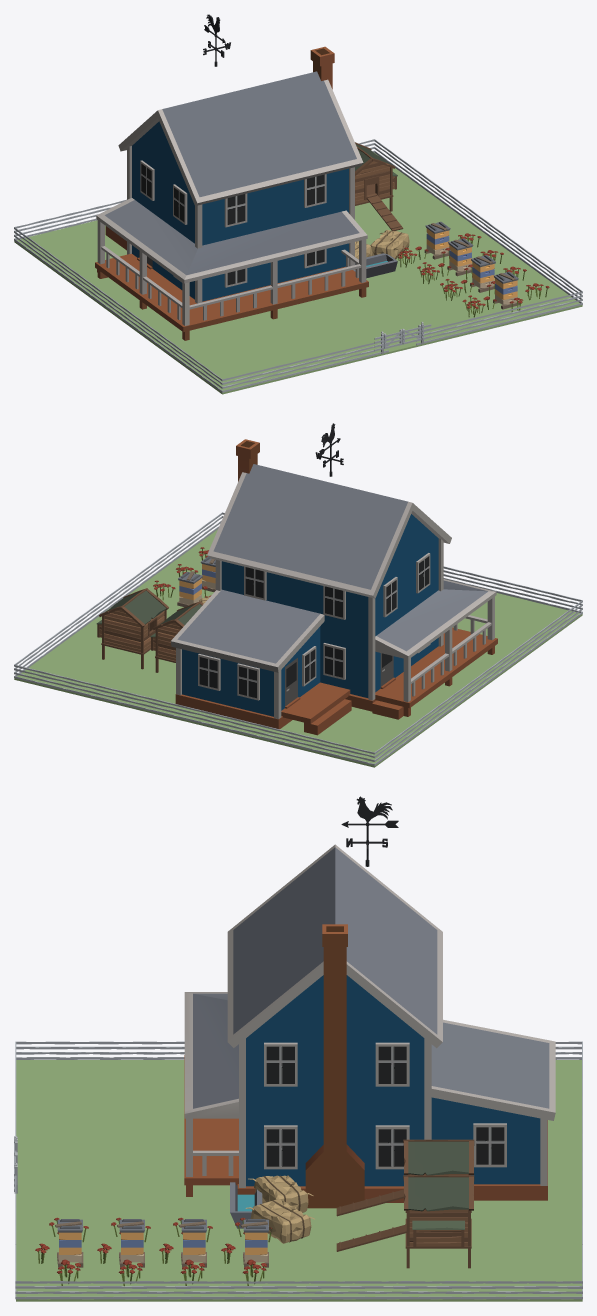
Rendered from ranch.glb.
The picture shows the model from 3 angles, top to bottom: view 1: azimuth 30°, elevation 25°; view 2: azimuth 150°, elevation 25°; view 3: azimuth 270°, elevation 25°; orthographic projection. The views are drawn at different scales.
Parts seen in each view (by area): view 1: RanchHouse, Ground, ChickenCoop_4, Haybale_4, Beehive_4, Beehive_1, FenceGate, Beehive_2, Beehive_3, Trough_2; view 2: RanchHouse, Ground, ChickenCoop_4, ChickenCoop_3, Beehive_4, Weathervane, Beehive_3; view 3: RanchHouse, Ground, ChickenCoop_4, ChickenCoop_3, Haybale_4, Haybale_3, Beehive_1, Beehive_4, Beehive_3, Beehive_2, Weathervane, Trough_2.
Part boxes in pixels (x1=…): RanchHouse: x1=95, y1=46, x2=368, y2=340; Ground: x1=14, y1=152, x2=582, y2=394; ChickenCoop_4: x1=355, y1=142, x2=403, y2=230; Haybale_4: x1=370, y1=230, x2=409, y2=259; Beehive_4: x1=424, y1=221, x2=450, y2=259; Beehive_1: x1=493, y1=271, x2=519, y2=309; FenceGate: x1=374, y1=321, x2=431, y2=353; Beehive_2: x1=470, y1=255, x2=495, y2=292; Beehive_3: x1=447, y1=238, x2=473, y2=276; Trough_2: x1=353, y1=253, x2=397, y2=278; RanchHouse: x1=170, y1=439, x2=497, y2=735; Ground: x1=14, y1=529, x2=582, y2=767; ChickenCoop_4: x1=96, y1=588, x2=168, y2=669; ChickenCoop_3: x1=150, y1=601, x2=203, y2=672; Beehive_4: x1=177, y1=571, x2=202, y2=607; Weathervane: x1=315, y1=423, x2=343, y2=476; Beehive_3: x1=200, y1=557, x2=215, y2=591; RanchHouse: x1=184, y1=844, x2=555, y2=1208; Ground: x1=16, y1=1060, x2=582, y2=1301; ChickenCoop_4: x1=336, y1=1175, x2=474, y2=1268; ChickenCoop_3: x1=336, y1=1139, x2=474, y2=1216; Haybale_4: x1=245, y1=1198, x2=314, y2=1243; Haybale_3: x1=248, y1=1175, x2=313, y2=1212; Beehive_1: x1=55, y1=1219, x2=83, y2=1267; Beehive_4: x1=240, y1=1219, x2=268, y2=1267; Beehive_3: x1=178, y1=1219, x2=206, y2=1267; Beehive_2: x1=117, y1=1219, x2=144, y2=1267; Weathervane: x1=341, y1=796, x2=398, y2=866; Trough_2: x1=230, y1=1182, x2=262, y2=1228.
Bounding box in the file's own units: 32.05 × 21.64 × 32.13.
Materials: 3 (2 with a texture image).
